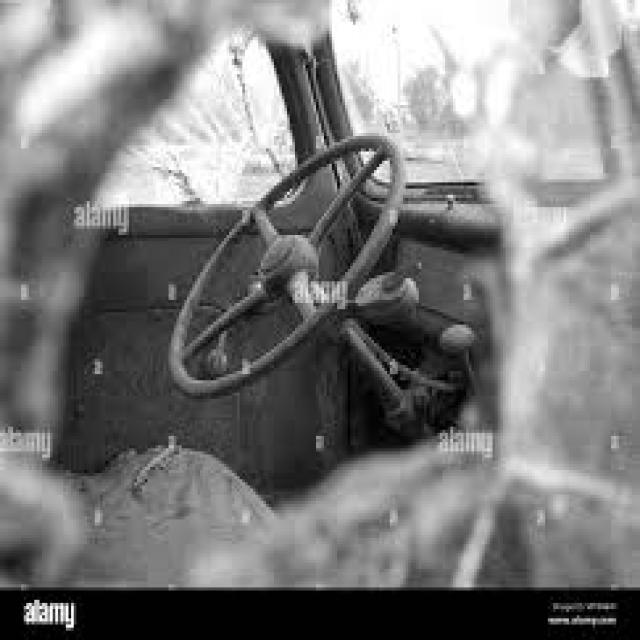damaged-window: (6, 0, 640, 590)
